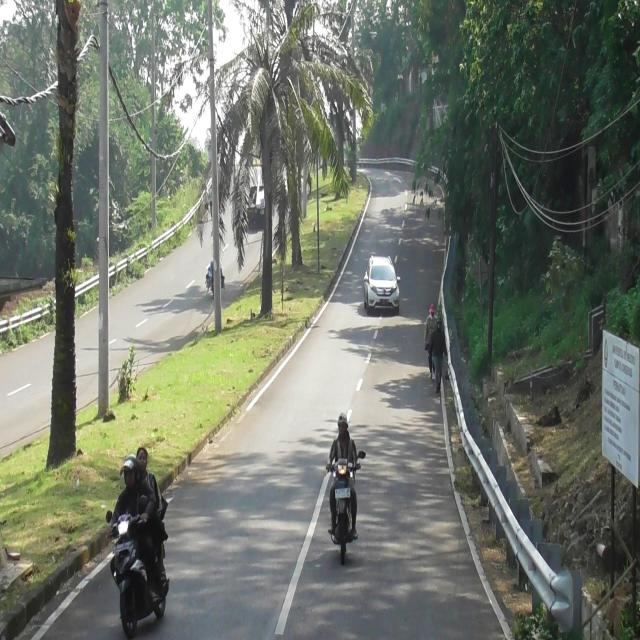motorcycle: (106, 496, 169, 636), (329, 451, 364, 567)
person: (111, 455, 159, 605), (136, 447, 167, 585), (328, 408, 359, 542)
rider_region: (101, 446, 172, 640), (325, 408, 361, 566)
